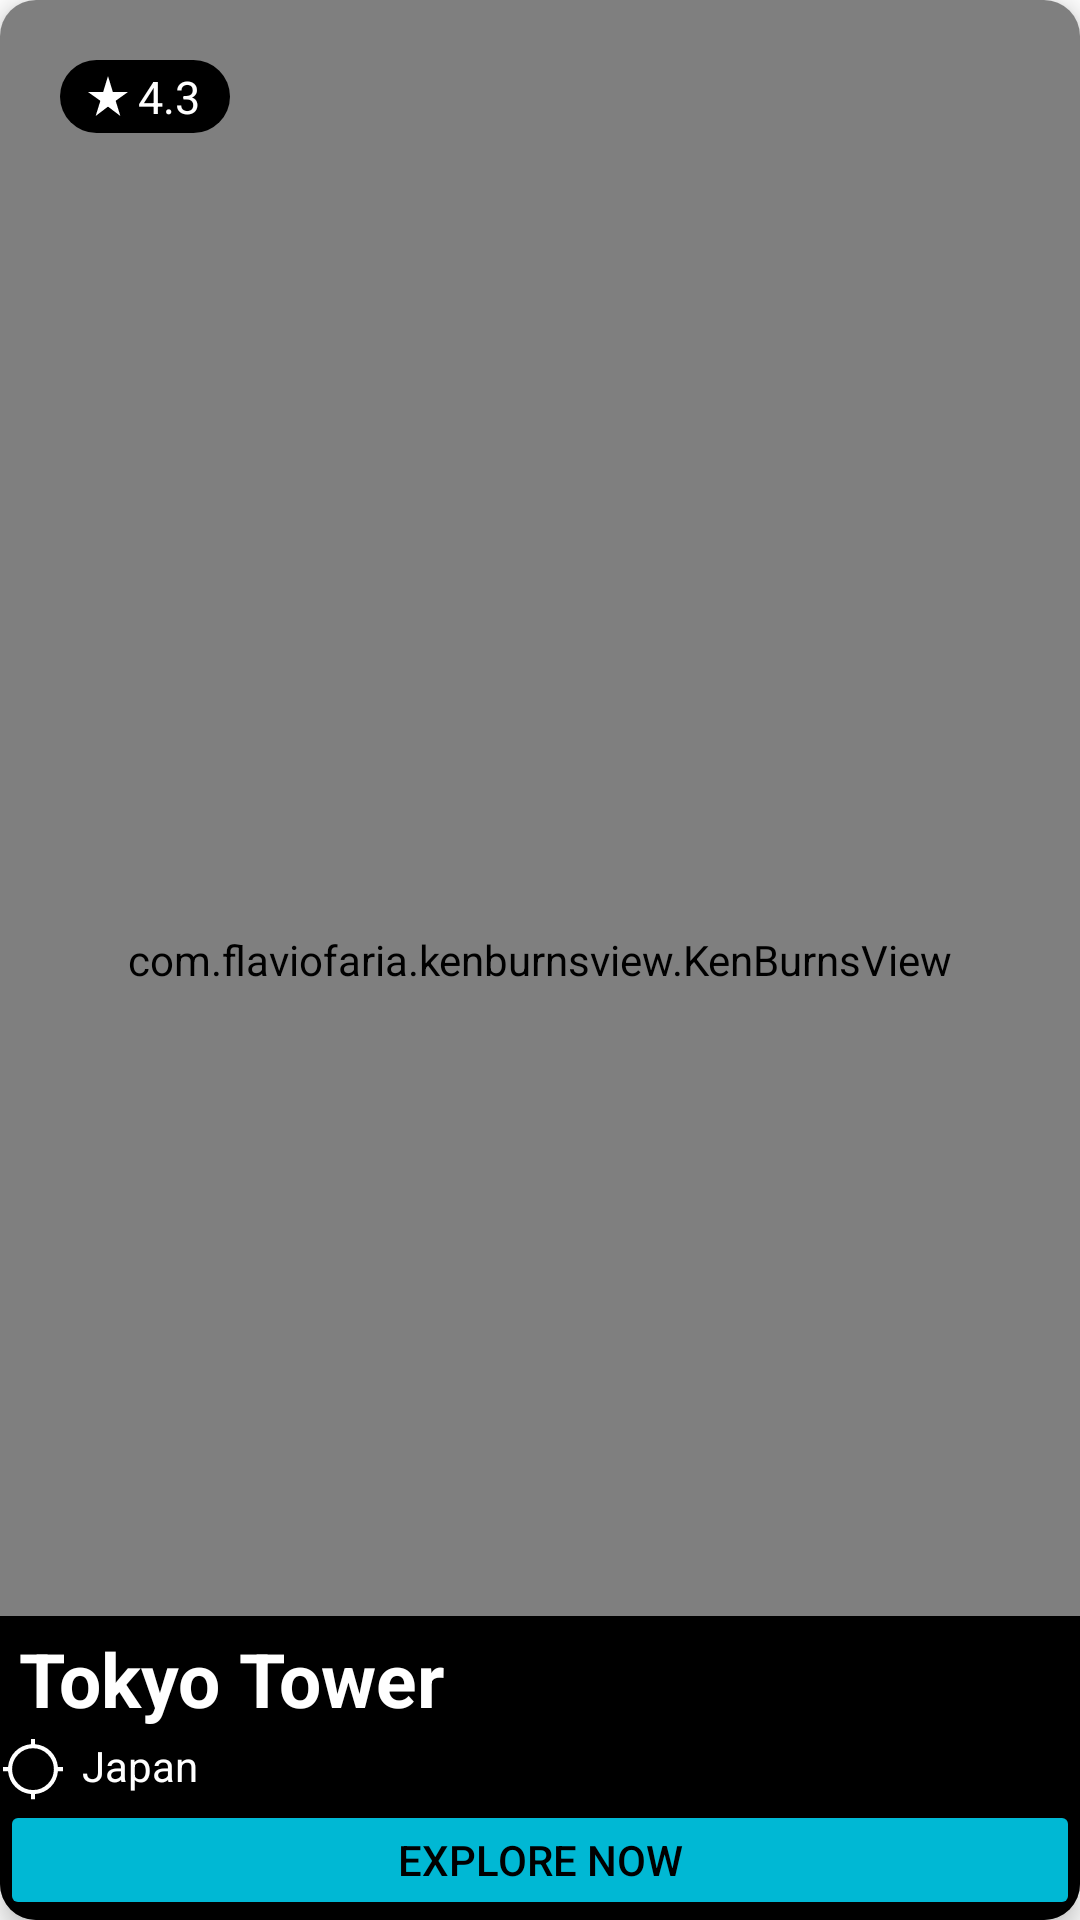

Icon bounding boxes for this 1080px×1920px phone screenshot, format (x1, y1, x2, y2):
starrate: (88, 76, 128, 116)
